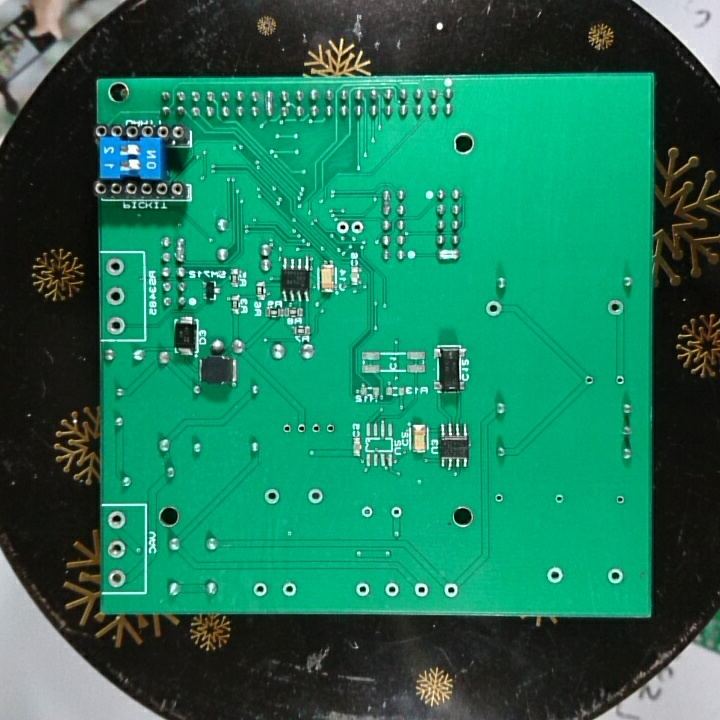F: (105, 509, 130, 535), (105, 566, 130, 589), (105, 537, 130, 560), (104, 285, 127, 310), (103, 255, 128, 278), (544, 563, 566, 589), (305, 484, 328, 508), (104, 314, 128, 337), (482, 297, 505, 320), (605, 296, 625, 320), (605, 565, 624, 589), (411, 580, 432, 600), (280, 579, 300, 600), (262, 487, 281, 508), (251, 579, 269, 601), (354, 578, 373, 598), (383, 580, 402, 600), (306, 419, 325, 438), (441, 580, 459, 600), (388, 503, 405, 522), (334, 218, 350, 238), (349, 218, 365, 238), (359, 503, 374, 522), (612, 372, 627, 389), (279, 420, 294, 437), (323, 420, 337, 438), (582, 372, 596, 389), (295, 420, 308, 438), (491, 491, 506, 506), (613, 492, 627, 507), (552, 490, 565, 506)
P: (174, 235, 188, 266), (380, 186, 393, 218), (262, 88, 276, 117), (437, 249, 460, 264)
